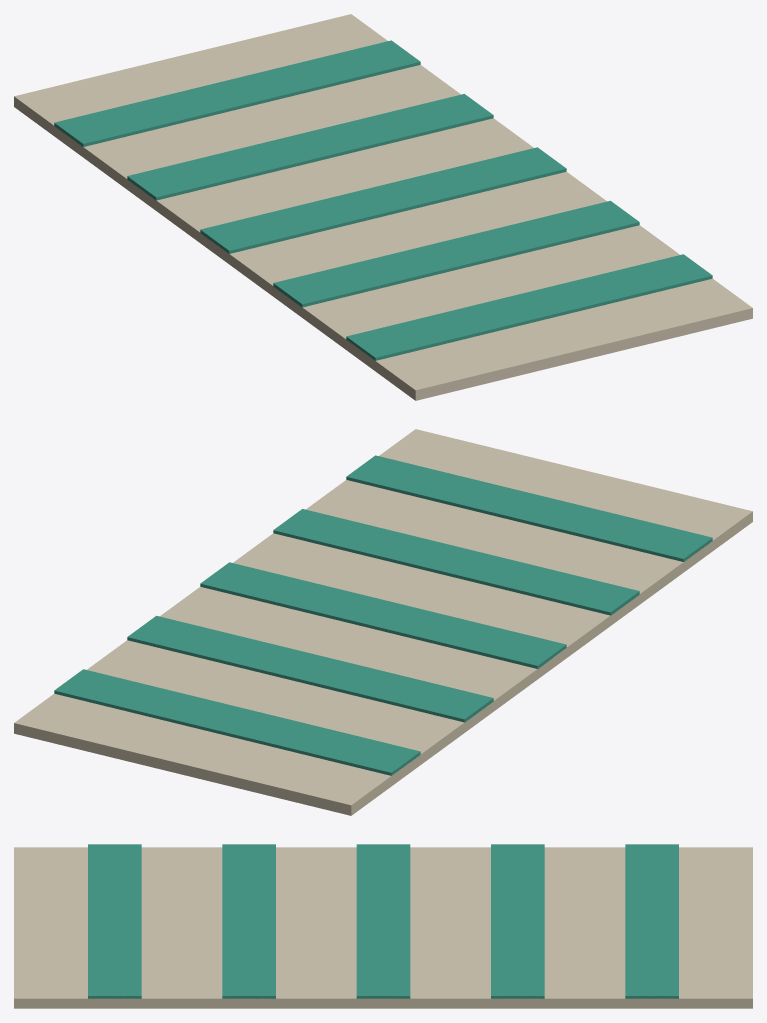
The model's file is striped_towel.glb.
3 views of the same model, one above another, from view 1: azimuth 30°, elevation 25°; view 2: azimuth 150°, elevation 25°; view 3: azimuth 270°, elevation 25° (orthographic). The views are drawn at different scales.
Visible parts, largest first — view 1: striped_towel_pc; view 2: striped_towel_pc; view 3: striped_towel_pc.
Part boxes in pixels (x1,y1,x2,y2): striped_towel_pc: (14,14,752,400); striped_towel_pc: (14,429,752,815); striped_towel_pc: (14,844,752,1008).
Size of the model in its own units: 0.8 by 0.031 by 1.65.
